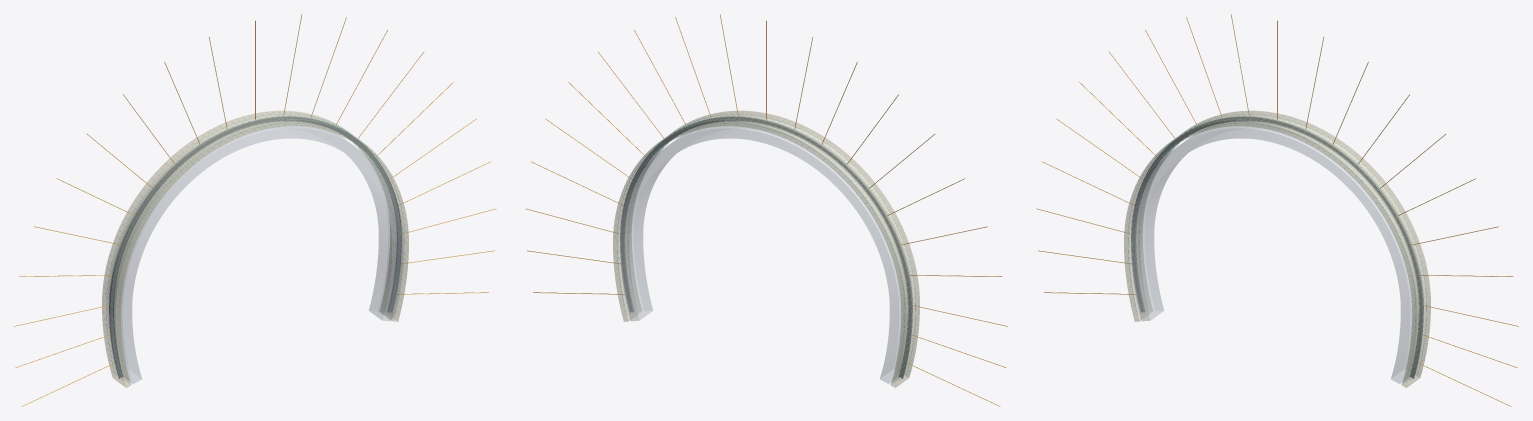
The model's file is ZZ-IVa_support_1m.glb.
3 renders of one model, left to right at view 1: azimuth 30°, elevation 25°; view 2: azimuth 150°, elevation 25°; view 3: azimuth 330°, elevation 25°, orthographic.
Visible parts, largest first — view 1: primarySupportConcrete, secondaryLining, steelArch_001, primaryMeshCircumferentialBars; view 2: primarySupportConcrete, secondaryLining, steelArch_001, primaryMeshCircumferentialBars; view 3: primarySupportConcrete, secondaryLining, steelArch_001, primaryMeshCircumferentialBars.
Part boxes in pixels (x1,y1,x2,y2): primarySupportConcrete: (102,110,408,387); secondaryLining: (110,122,401,383); steelArch_001: (109,116,401,378); primaryMeshCircumferentialBars: (106,114,404,379); primarySupportConcrete: (613,110,919,387); secondaryLining: (620,122,911,383); steelArch_001: (620,116,912,378); primaryMeshCircumferentialBars: (617,114,915,379); primarySupportConcrete: (1124,110,1430,387); secondaryLining: (1131,122,1422,383); steelArch_001: (1131,116,1423,378); primaryMeshCircumferentialBars: (1128,114,1426,379).
Size of the model in its own units: 20.4 by 13.3 by 1.
